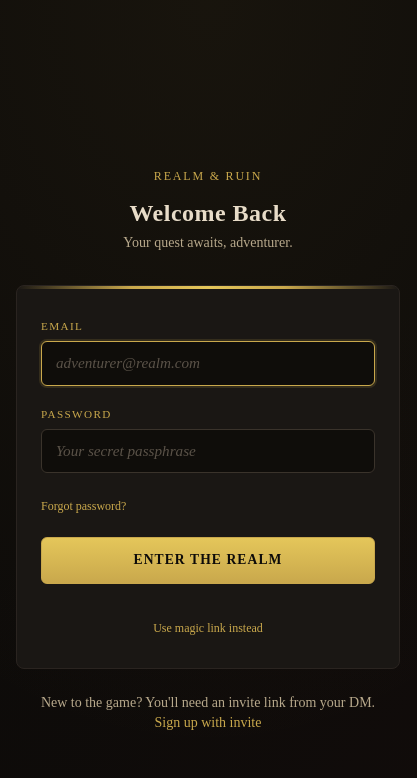
Scenario: LoginForm › error handling › shows "Invalid email or password" on auth error
Type "test@example.com" into the field with test id "email-input" at (208,363), box [41, 341, 375, 386]
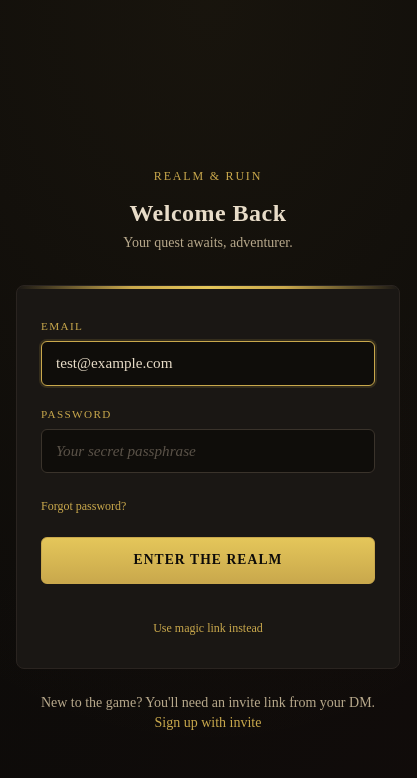
Type "wrongpass" into the password field with test id "password-input" at (208,451), box [41, 429, 375, 473]
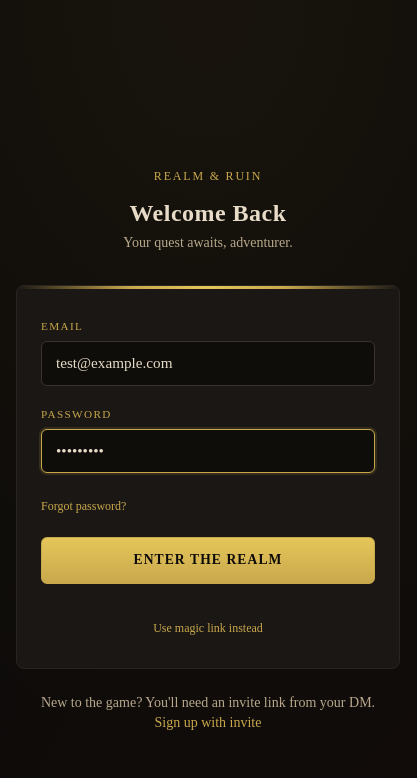
Click the button with test id "submit-button" at (208,561), box [41, 537, 375, 584]
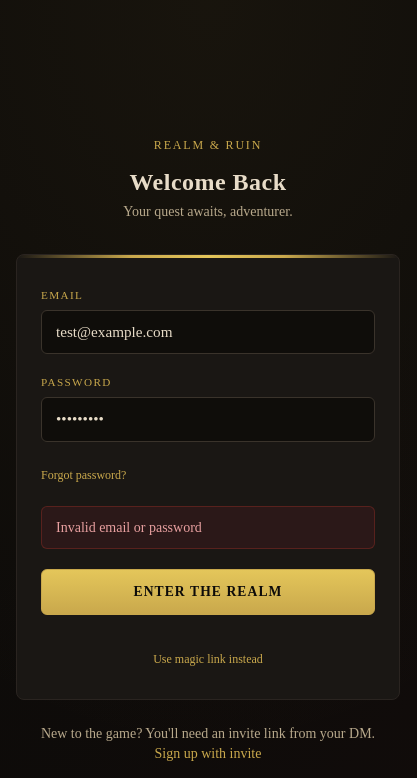
Result: the text with test id "form-error" reads "Invalid email or password" at [56, 520, 202, 535]
